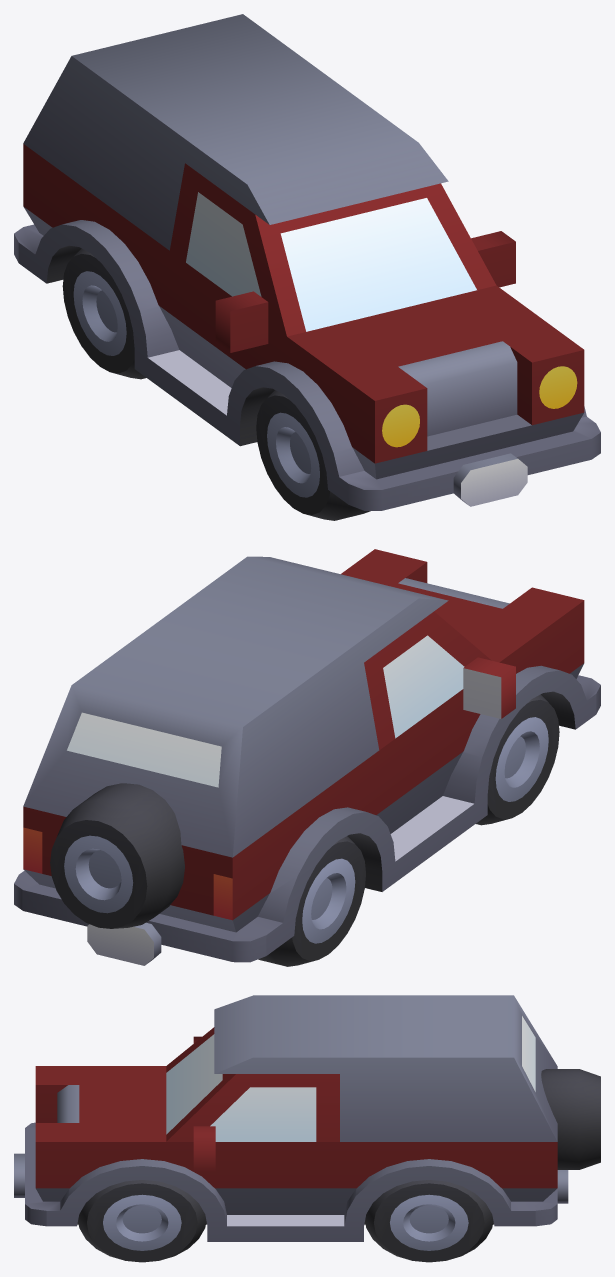
The model's file is suv-red.glb.
3 renders of one model, top to bottom at view 1: azimuth 30°, elevation 25°; view 2: azimuth 150°, elevation 25°; view 3: azimuth 270°, elevation 25°, orthographic. The views are drawn at different scales.
Visible parts, largest first — view 1: suv; view 2: suv; view 3: suv.
Boxes of the visible parts, box(x1,y1,x2,y2) form: suv: box(14, 14, 600, 520); suv: box(14, 549, 600, 966); suv: box(14, 995, 600, 1262).
Size of the model in its own units: 1.96 by 1.78 by 4.7.
1 material, 1 textured.
